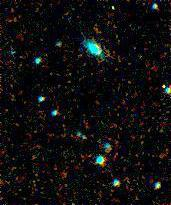star: (97, 0, 127, 24)
